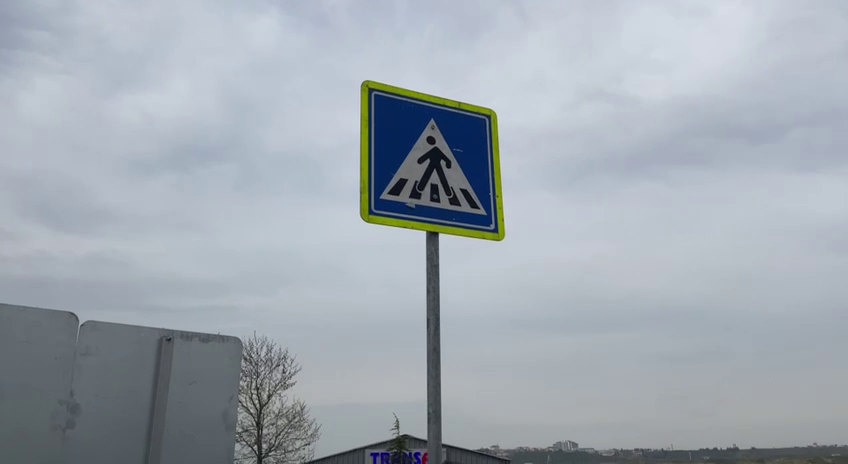pedestrianCrossing: (356, 76, 510, 244)
